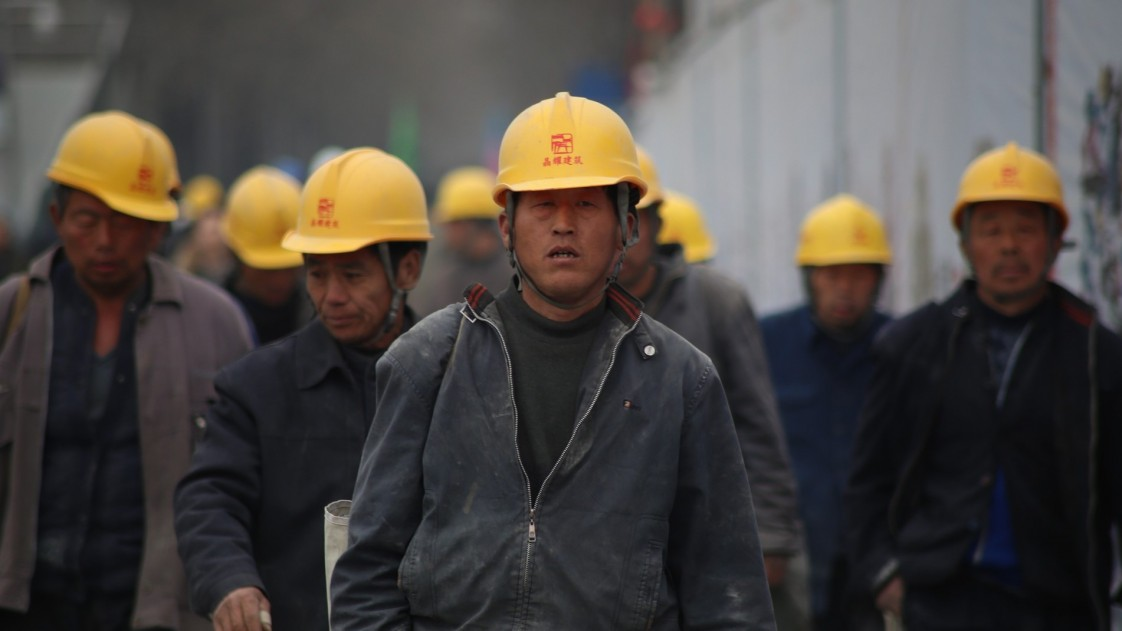epi: (404, 94, 745, 631), (194, 146, 436, 631), (4, 110, 228, 631), (886, 145, 1122, 626), (737, 193, 921, 631), (195, 157, 305, 335), (418, 160, 521, 305)
